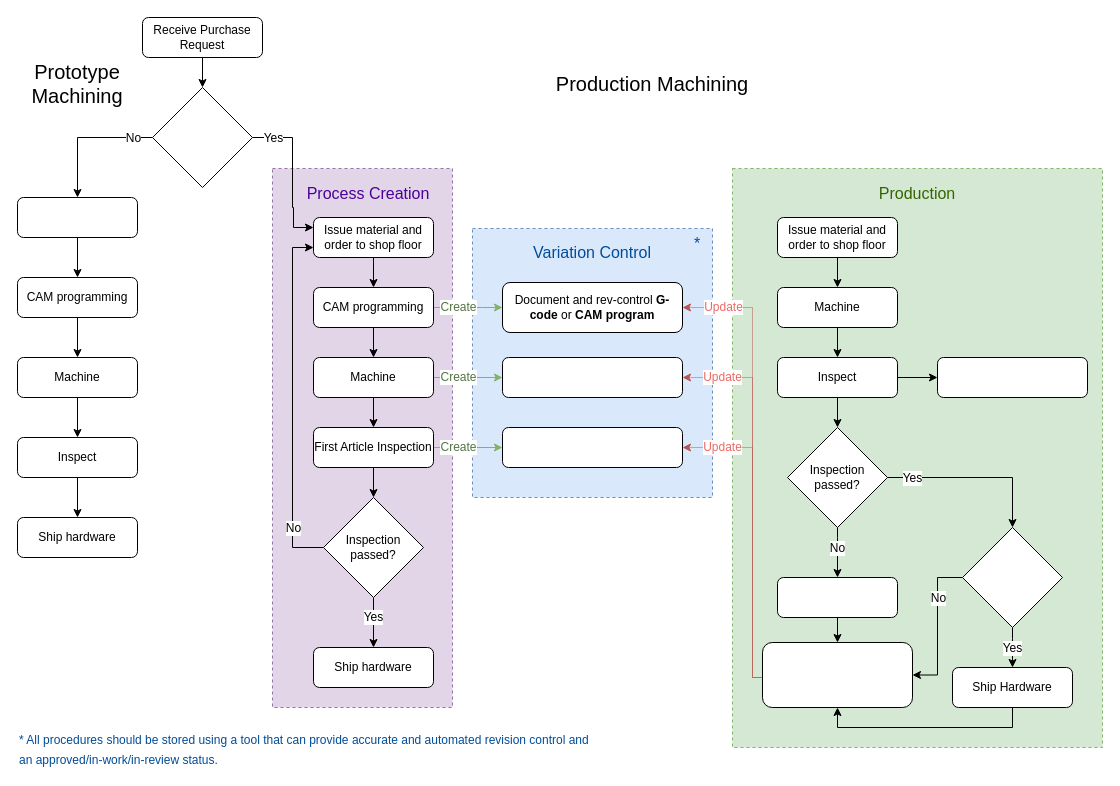
Some shapes in this 1120 by 786 pixel diagram are drawn without their labels. Each missing label, with the centre of its shape:
"Document and rev-control inspection procedure" goes at (x=592, y=447).
"Document and rev-control setup procedure" goes at (x=592, y=377).
"Issue materials and order to shop floor" goes at (x=77, y=217).
"Plot variation over time on a control chart" goes at (x=1012, y=377).
"Process non-conformnace" goes at (x=837, y=597).
"Production criteria met?" goes at (x=202, y=137).
"Update CAM / machining / inspection procedure as required" goes at (x=837, y=675).
"Variation within limits?" goes at (x=1012, y=577).
